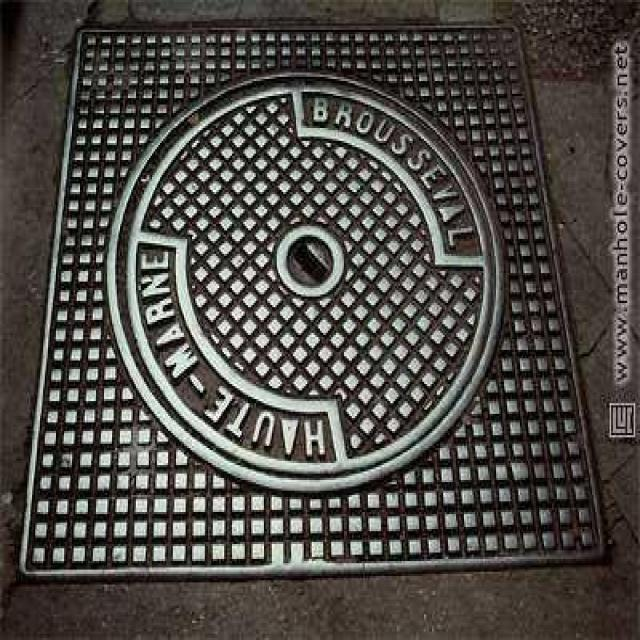manhole: (20, 25, 603, 577)
